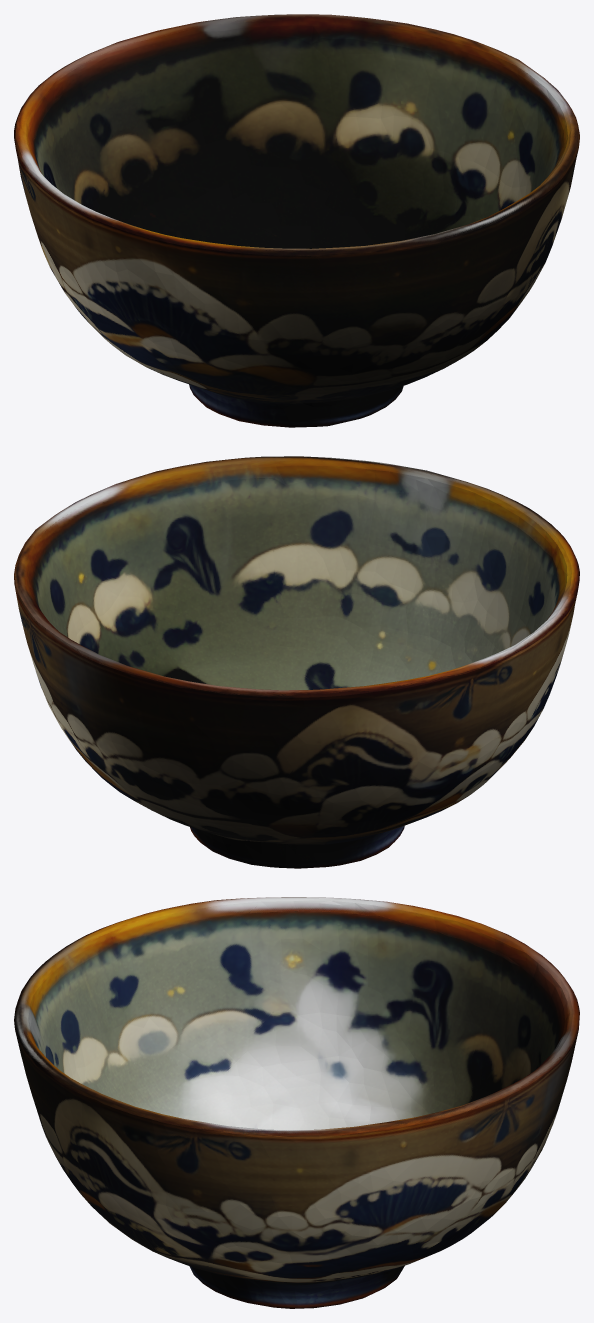
File: ceramic-bowl-japanese.jpeg.glb
The picture shows the model from 3 angles, top to bottom: view 1: azimuth 30°, elevation 25°; view 2: azimuth 150°, elevation 25°; view 3: azimuth 270°, elevation 25°; orthographic projection.
Visible parts, largest first — view 1: world; view 2: world; view 3: world.
Part boxes in pixels (<box>): world: <box>14,14,579,427</box>; world: <box>14,456,579,868</box>; world: <box>14,897,579,1308</box>.
Size of the model in its own units: 0.9959 by 0.4932 by 0.999.
1 material, 1 textured.
